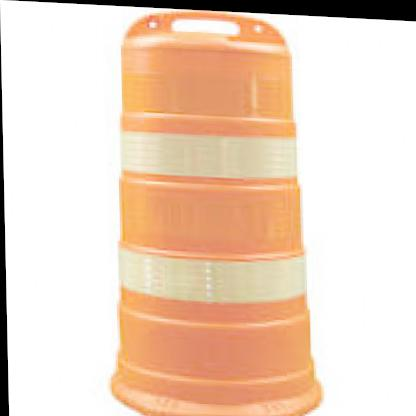obstacle: (108, 23, 313, 416)
